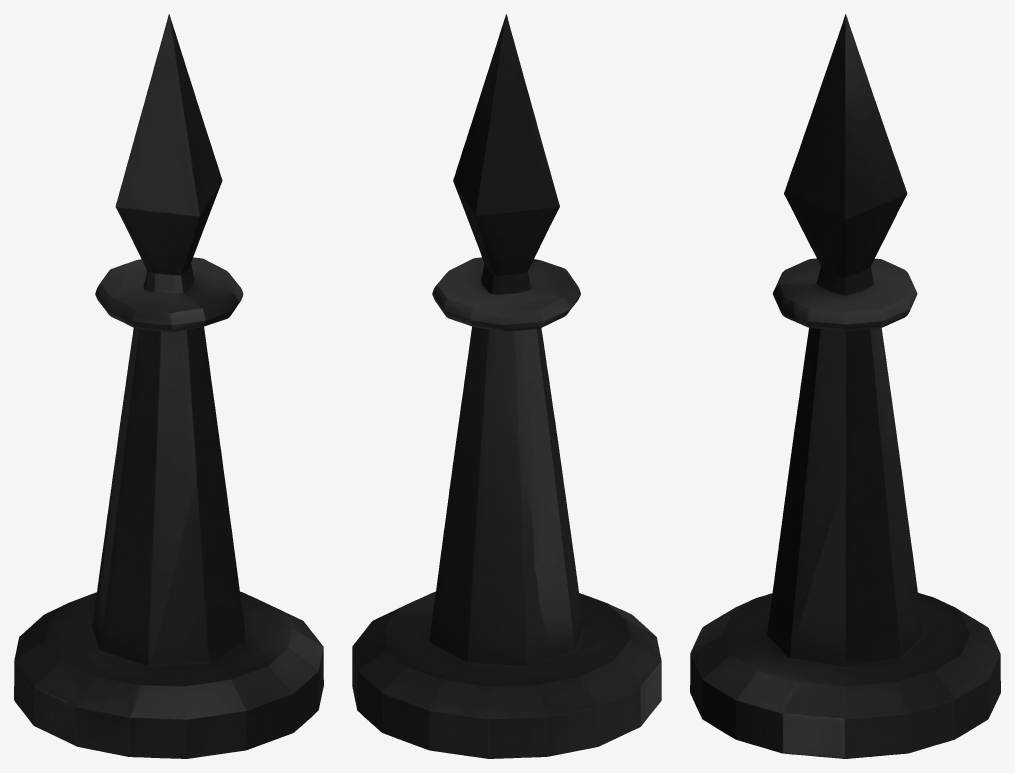
The model's file is pawn.glb.
The picture shows the model from 3 angles, left to right: view 1: azimuth 30°, elevation 25°; view 2: azimuth 150°, elevation 25°; view 3: azimuth 270°, elevation 25°; orthographic projection.
Parts seen in each view (by area): view 1: Black Yari Pawn; view 2: Black Yari Pawn; view 3: Black Yari Pawn.
Part boxes in pixels (x1,y1,x2,y2): Black Yari Pawn: (14, 14, 323, 758); Black Yari Pawn: (352, 14, 661, 758); Black Yari Pawn: (690, 14, 1000, 758).
Bounding box in the file's own units: 0.7875 × 1.9 × 0.7866.
Materials: 1 (1 with a texture image).
